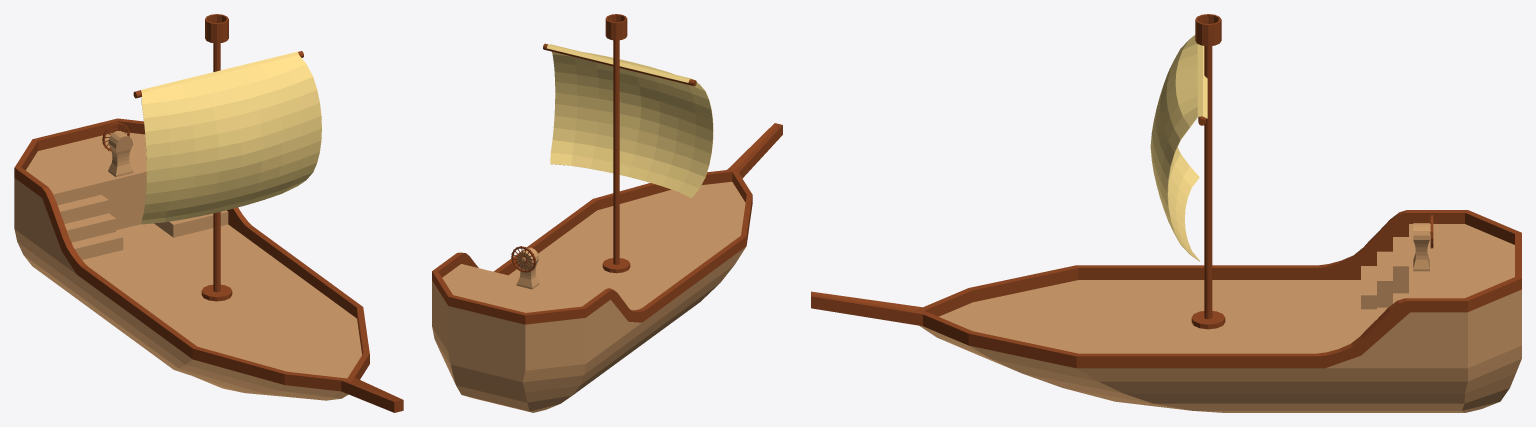
The model's file is Ship2.fbx.
3 renders of one model, left to right at view 1: azimuth 30°, elevation 25°; view 2: azimuth 150°, elevation 25°; view 3: azimuth 270°, elevation 25°, orthographic. The views are drawn at different scales.
Parts seen in each view (by area): view 1: Wheel.001; view 2: Wheel.001; view 3: Wheel.001.
Part boxes in pixels (bbox=[...]): Wheel.001: bbox=[14, 14, 403, 412]; Wheel.001: bbox=[432, 14, 782, 412]; Wheel.001: bbox=[811, 14, 1521, 412].
Bounding box in the file's own units: 4.11 × 7.59 × 13.16.
